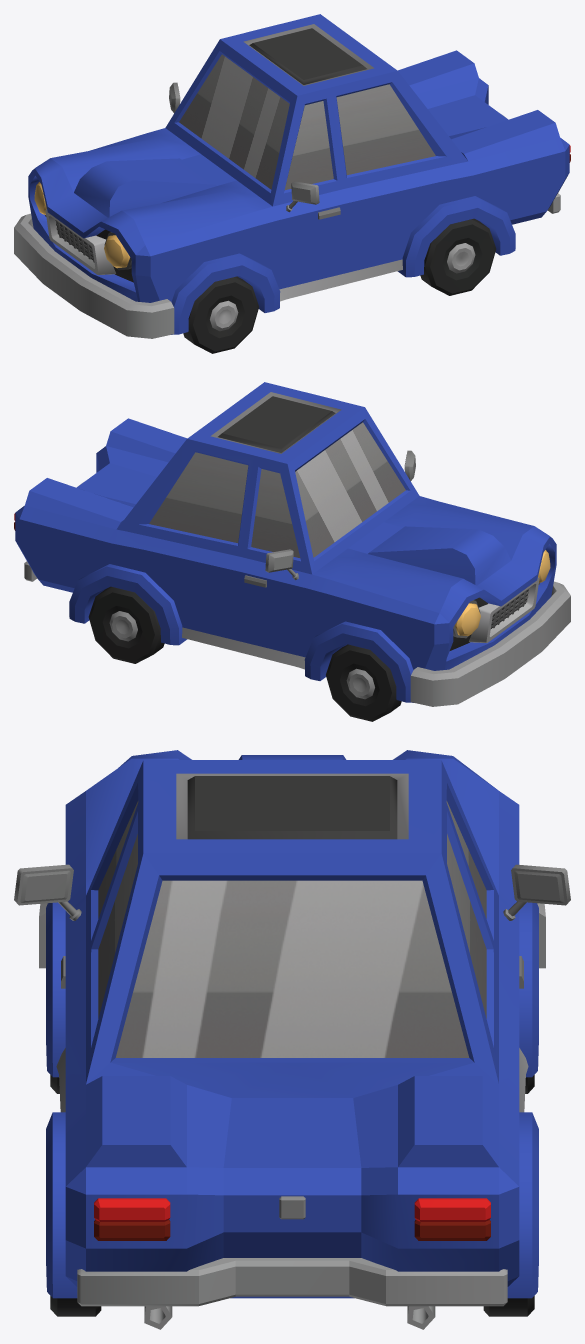
The model's file is Car_17_E.gltf.
3 views of the same model, one above another, from view 1: azimuth 30°, elevation 25°; view 2: azimuth 150°, elevation 25°; view 3: azimuth 270°, elevation 25° (orthographic). The views are drawn at different scales.
Visible parts, largest first — view 1: Car_17_E, RL, FL; view 2: Car_17_E, RR, FR; view 3: Car_17_E, RL, RR.
Boxes of the visible parts, left/top/right/bottom form: Car_17_E: left=14, top=14, right=570, bottom=338; RL: left=420, top=218, right=496, bottom=295; FL: left=183, top=276, right=258, bottom=353; Car_17_E: left=14, top=382, right=570, bottom=706; RR: left=88, top=586, right=164, bottom=663; FR: left=326, top=644, right=401, bottom=721; Car_17_E: left=14, top=750, right=570, bottom=1329; RL: left=50, top=1296, right=101, bottom=1316; RR: left=483, top=1296, right=534, bottom=1316.
Size of the model in its own units: 3.39 by 1.53 by 1.85.
4 materials, 4 textured.
